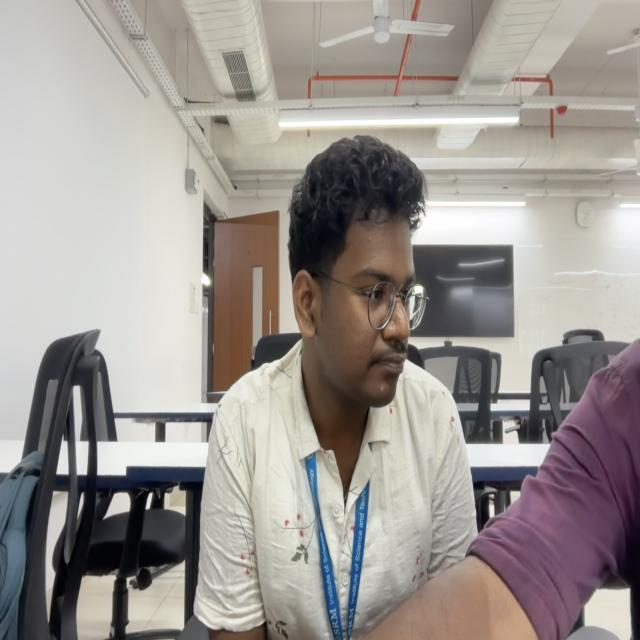sai: (287, 138, 430, 412)
